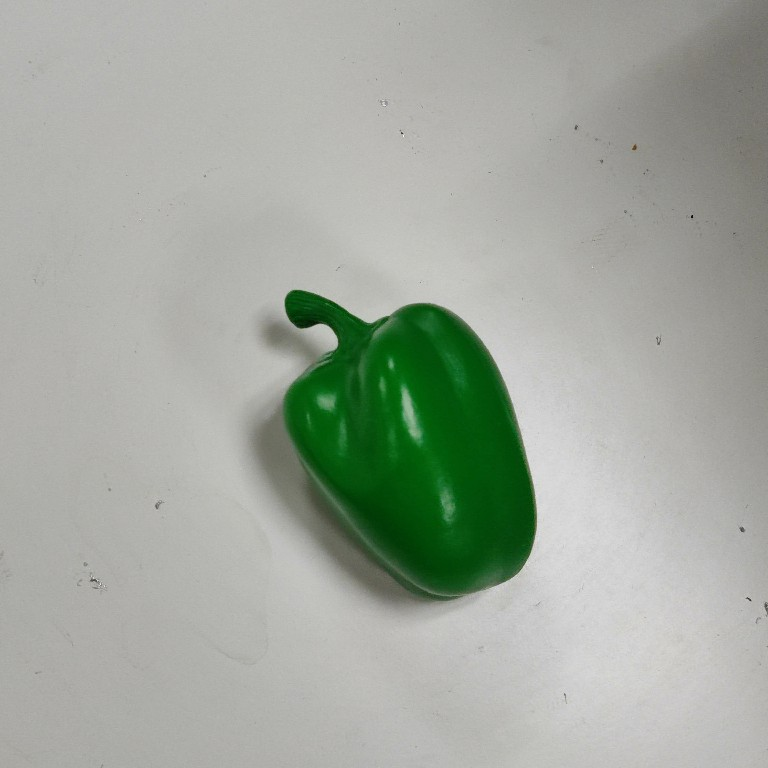fruit_pepper: (277, 284, 542, 604)
